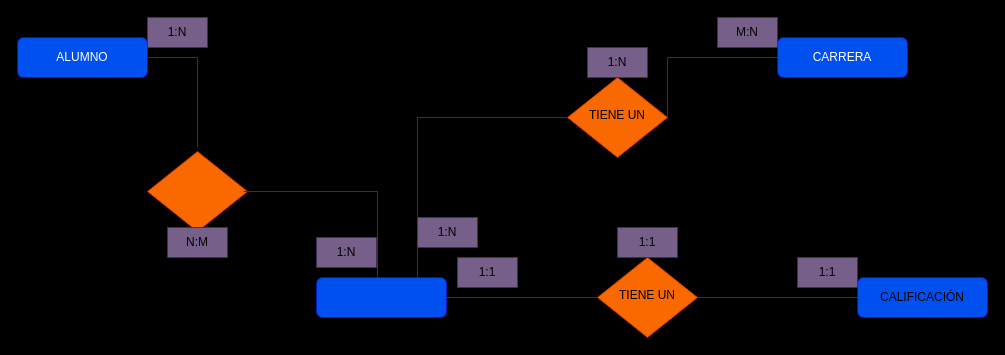
This 1005x355 diagram has some shape labels left out. The box of each missing label's shape, as (x1, y1, x2, y2) in pixels:
ASIGNATURA: (316, 276, 446, 318)
MATRICULADO: (146, 150, 248, 232)
